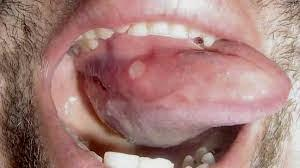Ulcer: (84, 101, 147, 133), (121, 59, 150, 84)
